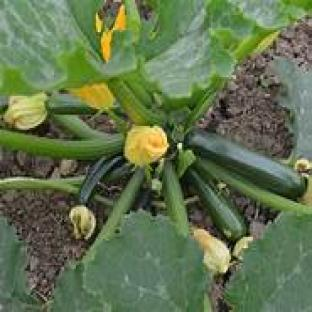Zucchini: (186, 130, 306, 199), (186, 170, 246, 240), (95, 170, 145, 246), (80, 156, 124, 204), (162, 162, 188, 236)
